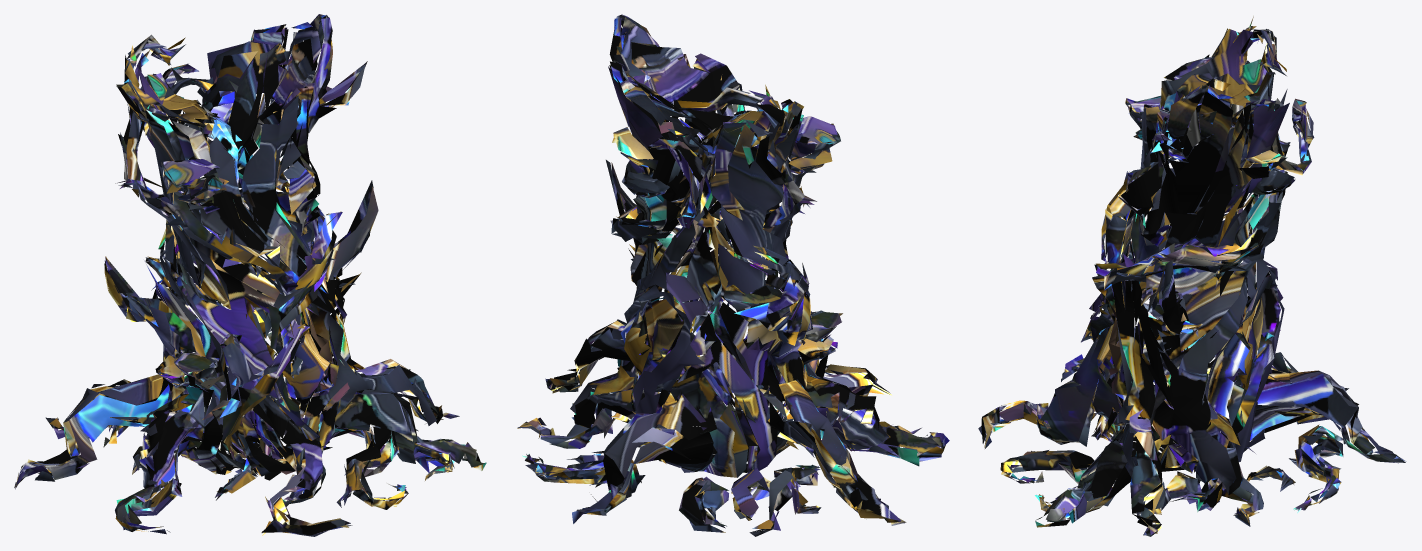
File: tower_thornsnare_3d_LOD2.fbx
The picture shows the model from 3 angles, left to right: view 1: azimuth 30°, elevation 25°; view 2: azimuth 150°, elevation 25°; view 3: azimuth 270°, elevation 25°; orthographic projection. The views are drawn at different scales.
Visible parts, largest first — view 1: Mesh1.0; view 2: Mesh1.0; view 3: Mesh1.0.
Part boxes in pixels (left/top/right/bottom): Mesh1.0: left=14, top=14, right=486, bottom=536; Mesh1.0: left=517, top=14, right=949, bottom=536; Mesh1.0: left=978, top=16, right=1406, bottom=536.
Size of the model in its own units: 126 by 126 by 119.
